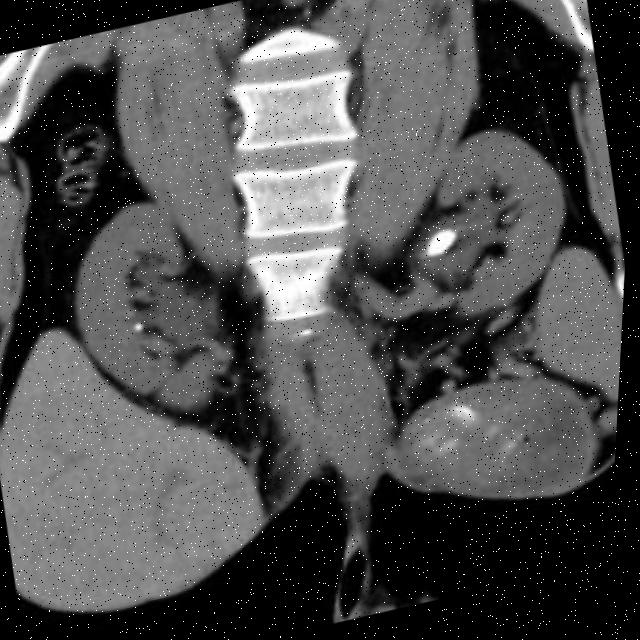Tas_Var: (418, 225, 469, 270), (133, 318, 152, 338)
